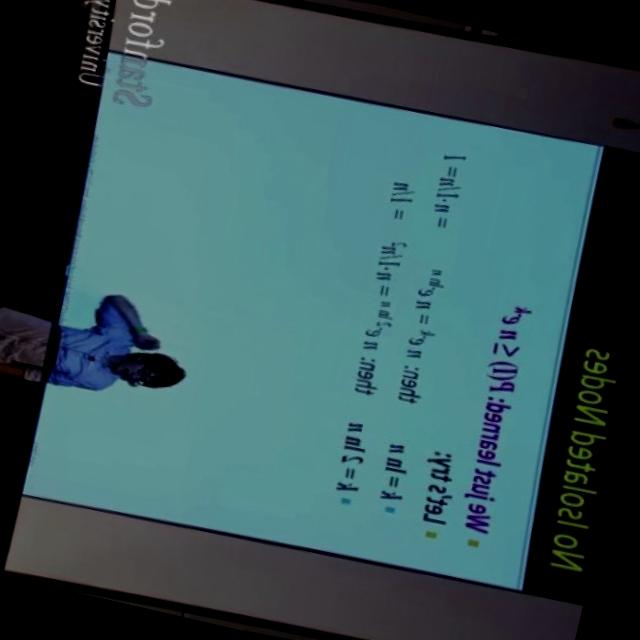Instructor: (0, 279, 220, 437)
Slide: (21, 53, 640, 604)
